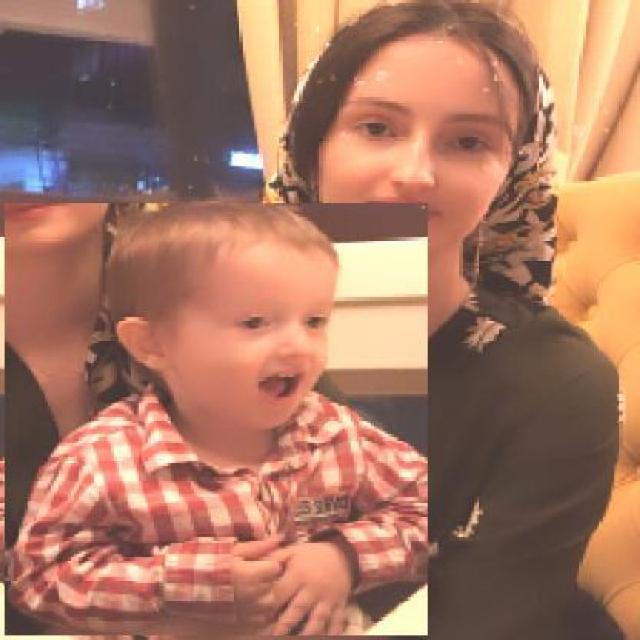child: (3, 203, 428, 637)
